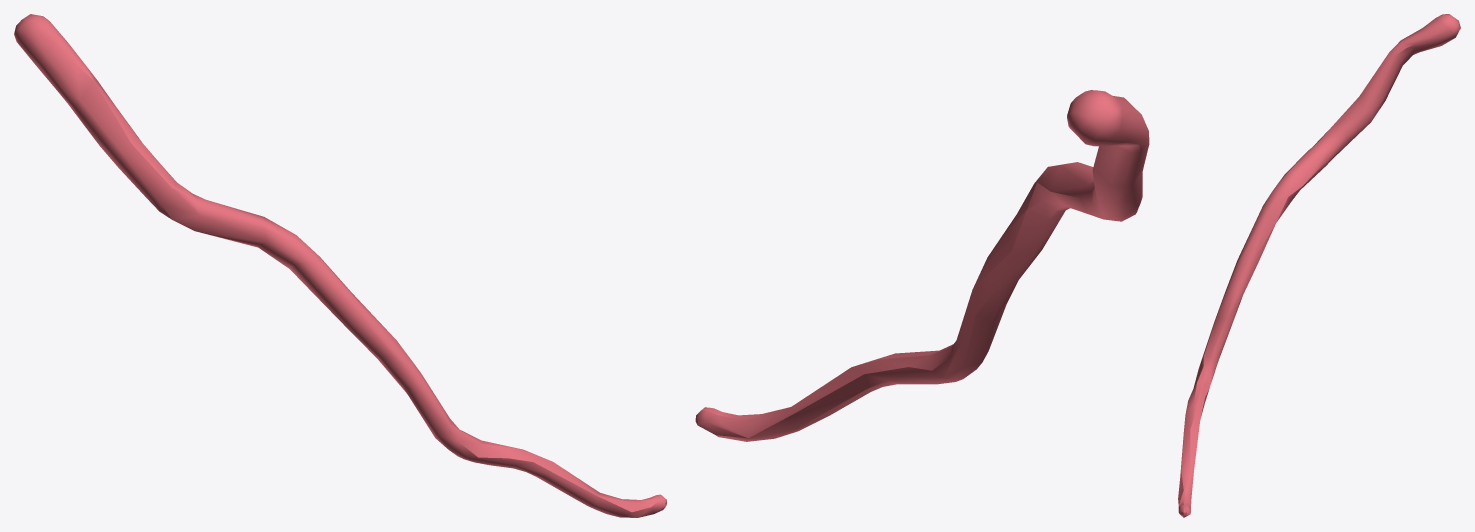
File: fma3815_fj2671.glb
The picture shows the model from 3 angles, left to right: view 1: azimuth 30°, elevation 25°; view 2: azimuth 150°, elevation 25°; view 3: azimuth 270°, elevation 25°; orthographic projection. The views are drawn at different scales.
Visible parts, largest first — view 1: FMA3815_FJ2671; view 2: FMA3815_FJ2671; view 3: FMA3815_FJ2671.
Boxes of the visible parts, x1,y1,x2,y2 form: FMA3815_FJ2671: [14, 14, 666, 517]; FMA3815_FJ2671: [695, 90, 1149, 441]; FMA3815_FJ2671: [1178, 14, 1460, 517].
Bounding box in the file's own units: 0.0241 × 0.0232 × 0.0173.
